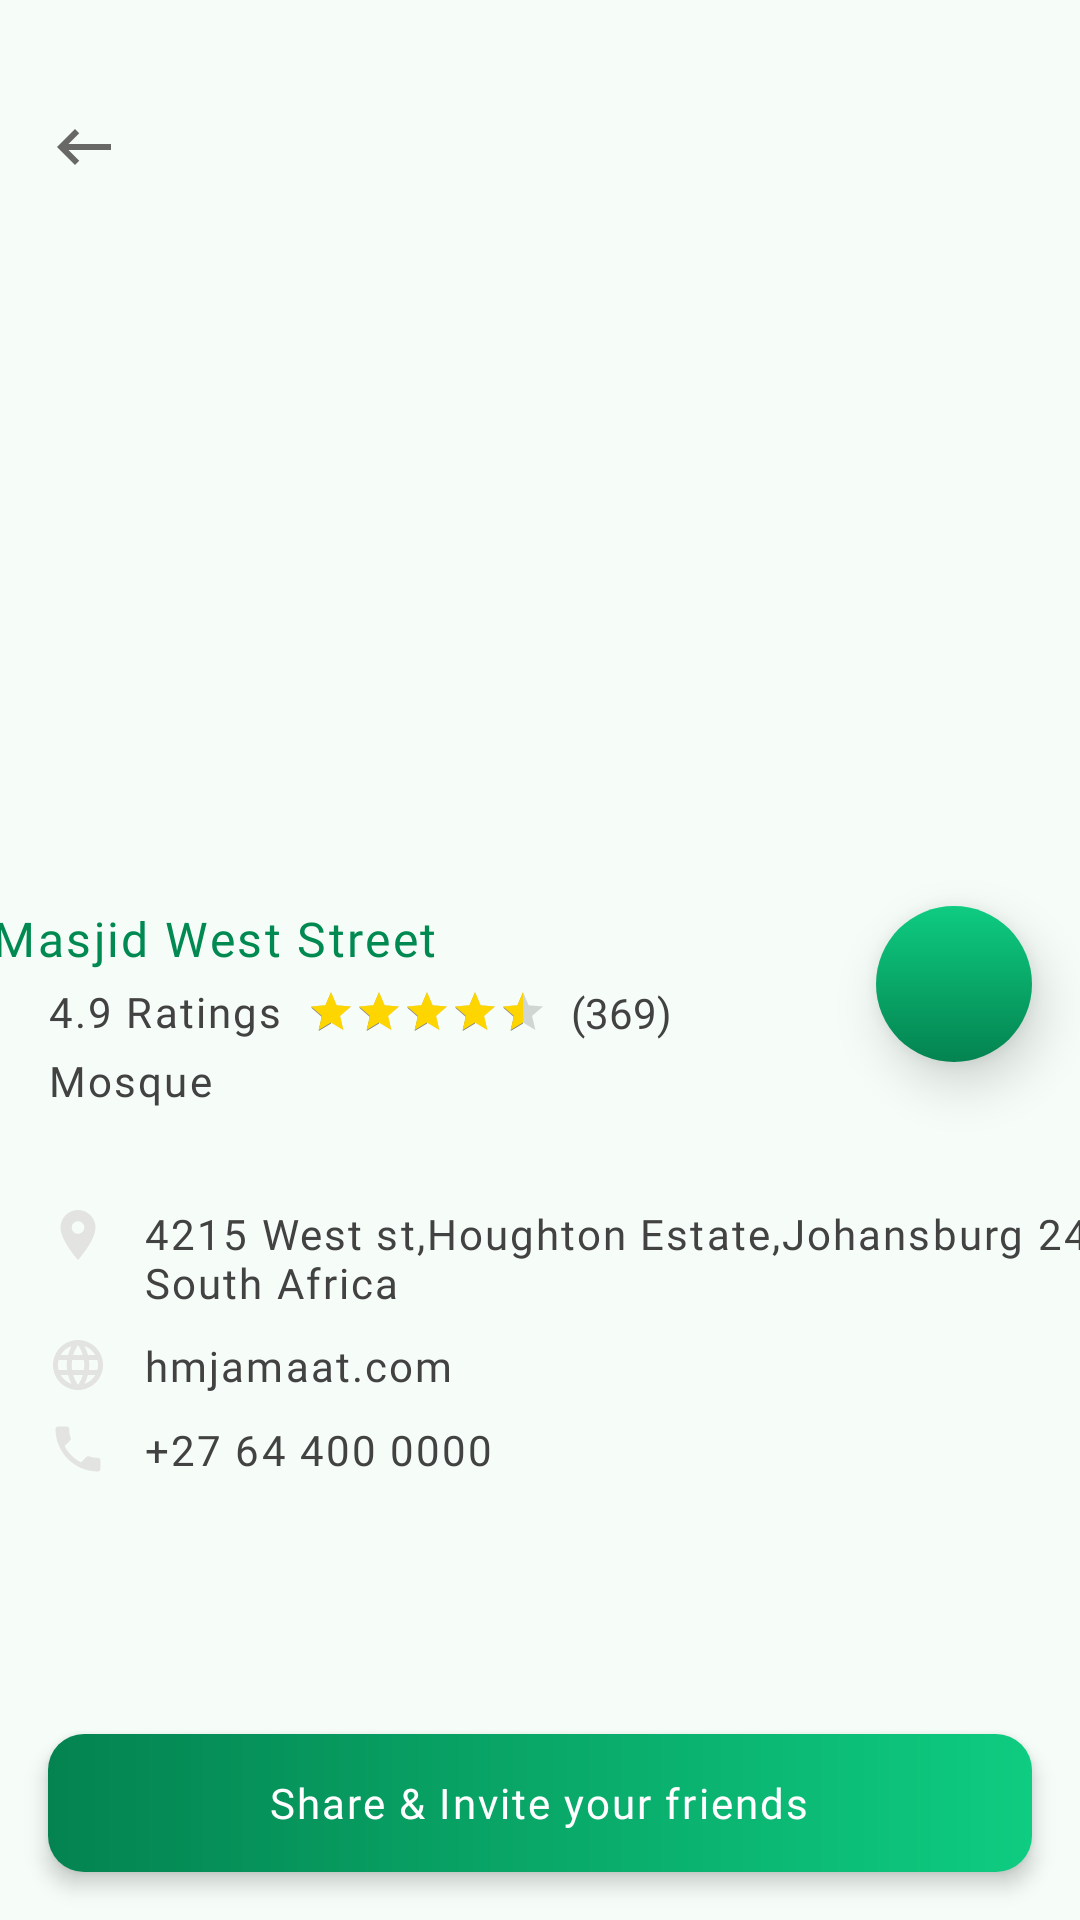

Icons on this 1080*1920 Android screen, each with the point to tap as point (x, y):
call: point (78, 1449)
location: point (78, 1234)
website: point (78, 1365)
